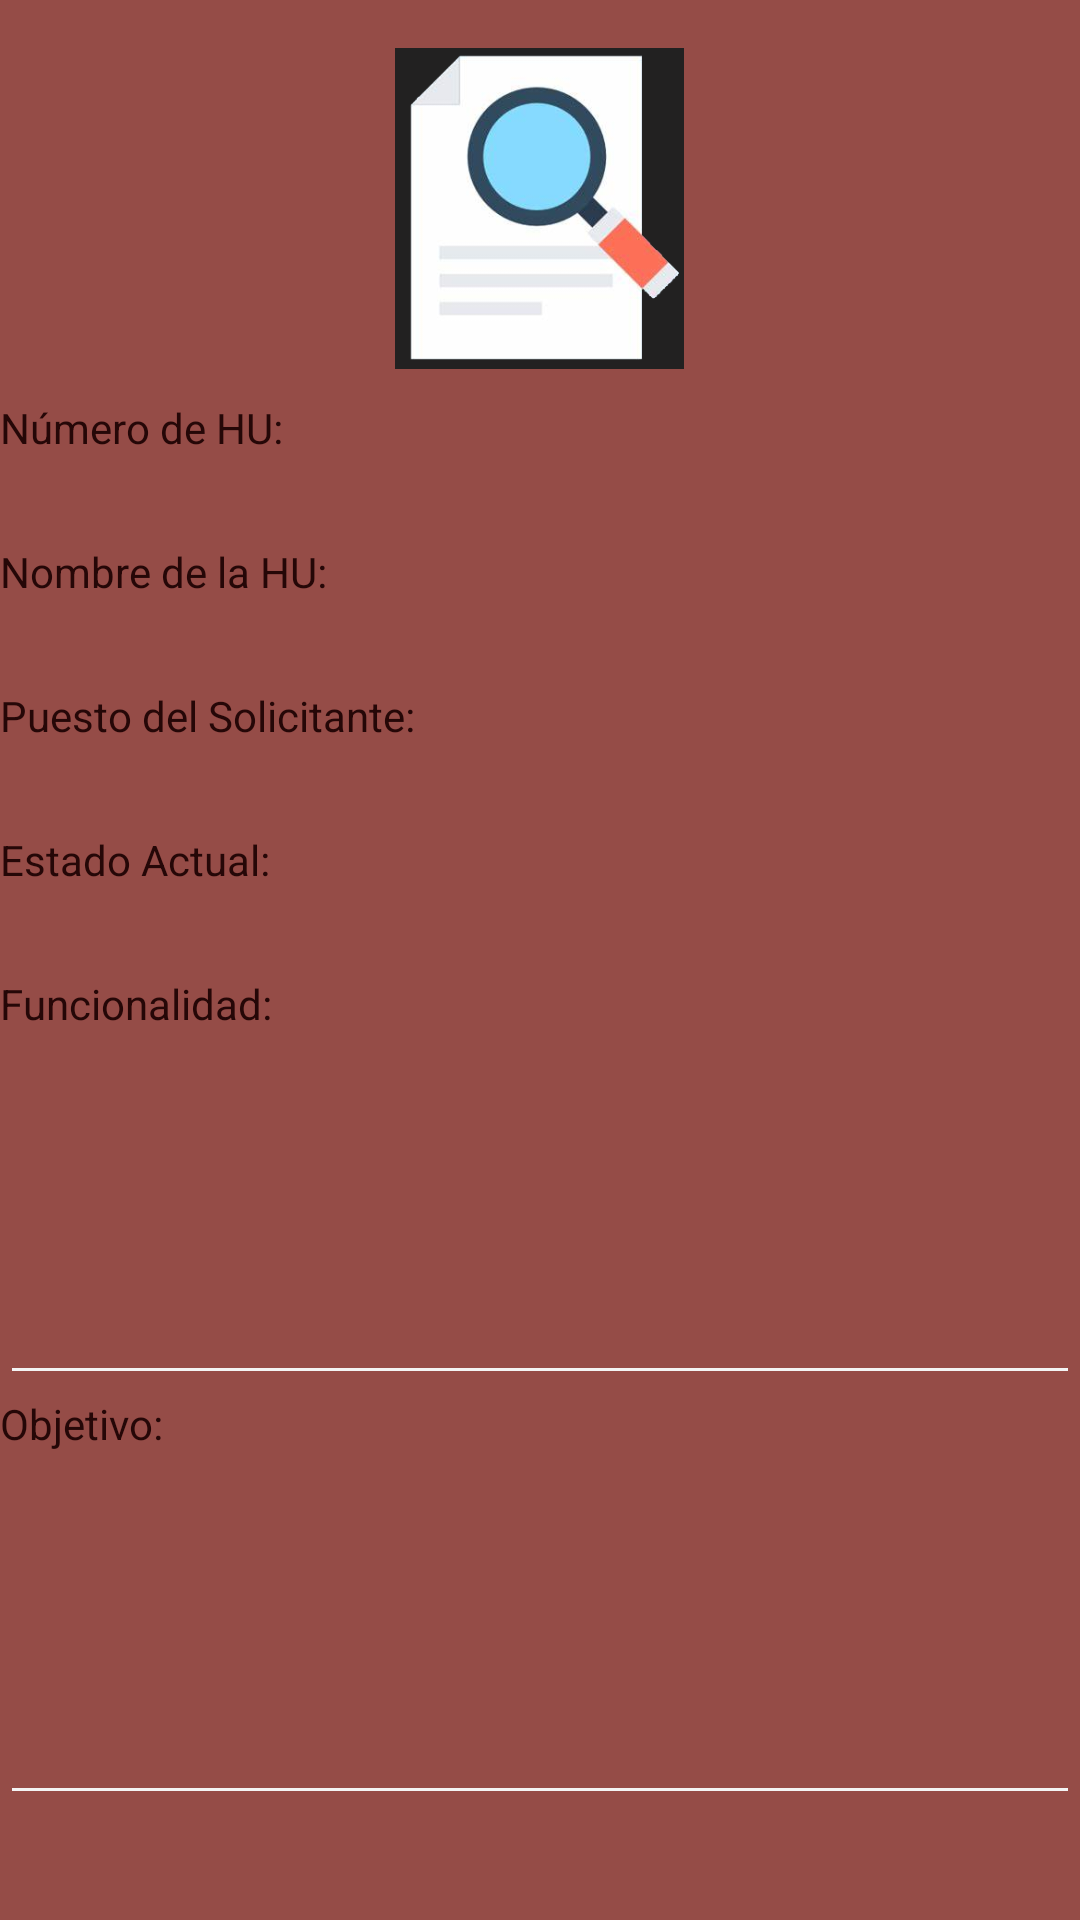

Icon click points for this 1080px x 1920px phone screenshot, format [x,y]:
busqueda: [539,208]
